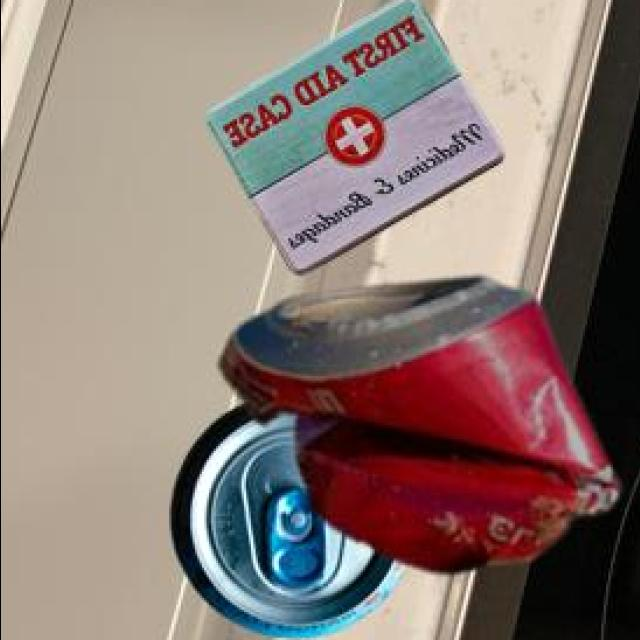logam: (223, 281, 620, 576), (209, 0, 506, 277), (174, 408, 410, 640)
